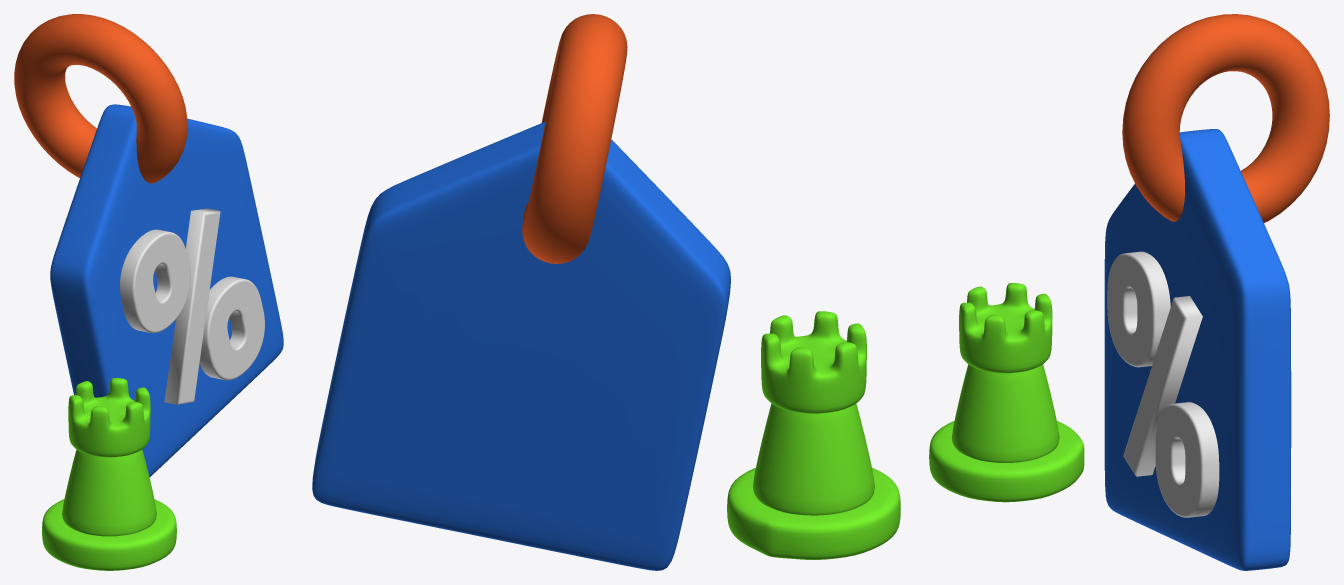
Rendered from sales-strategy-3d-animated-icon-489702292185.glb.
3 renders of one model, left to right at view 1: azimuth 30°, elevation 25°; view 2: azimuth 150°, elevation 25°; view 3: azimuth 270°, elevation 25°, orthographic. The views are drawn at different scales.
Parts seen in each view (by area): view 1: tag body, chess, string, %; view 2: tag body, chess, string; view 3: tag body, string, chess, %.
Part boxes in pixels (x1,y1,x2,y2): tag body: [50, 104, 283, 476]; chess: [42, 378, 176, 570]; string: [14, 14, 187, 183]; %: [120, 208, 264, 404]; tag body: [312, 121, 730, 570]; chess: [727, 311, 900, 559]; string: [522, 14, 627, 263]; tag body: [1104, 129, 1291, 570]; string: [1122, 14, 1329, 222]; chess: [929, 283, 1084, 502]; %: [1107, 251, 1219, 517].
Bounding box in the file's own units: 2.45 × 3.05 × 2.22.
